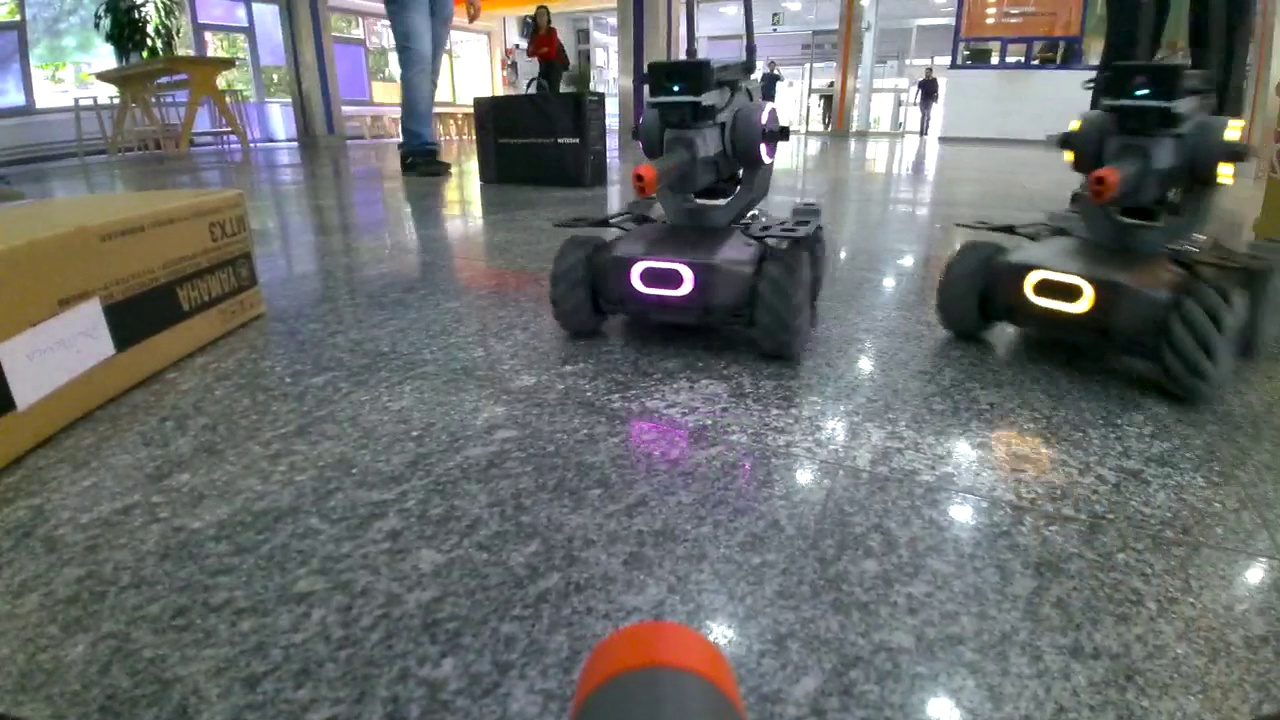robot: (934, 64, 1277, 412), (549, 55, 831, 366)
